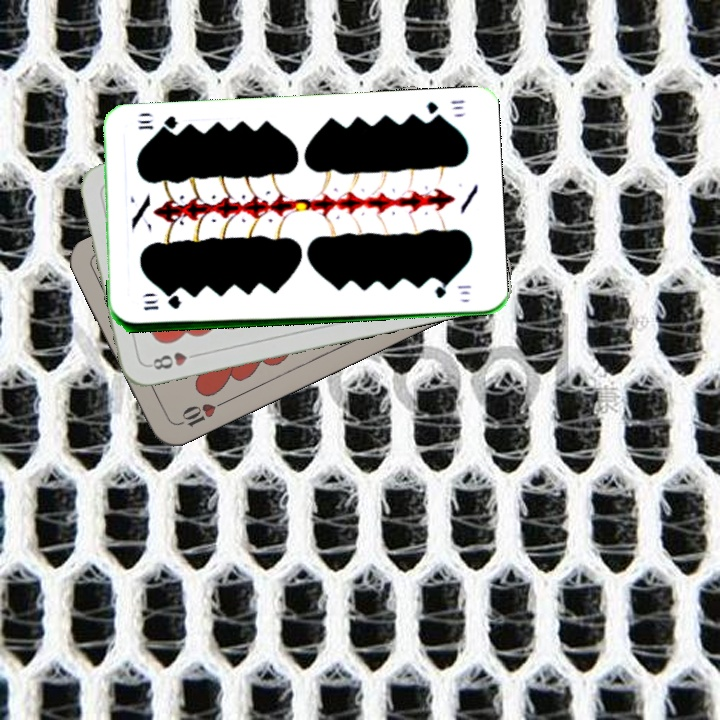G10: (422, 96, 467, 123), (140, 294, 183, 313)
H10: (172, 397, 228, 430)
H8: (144, 348, 203, 372)
